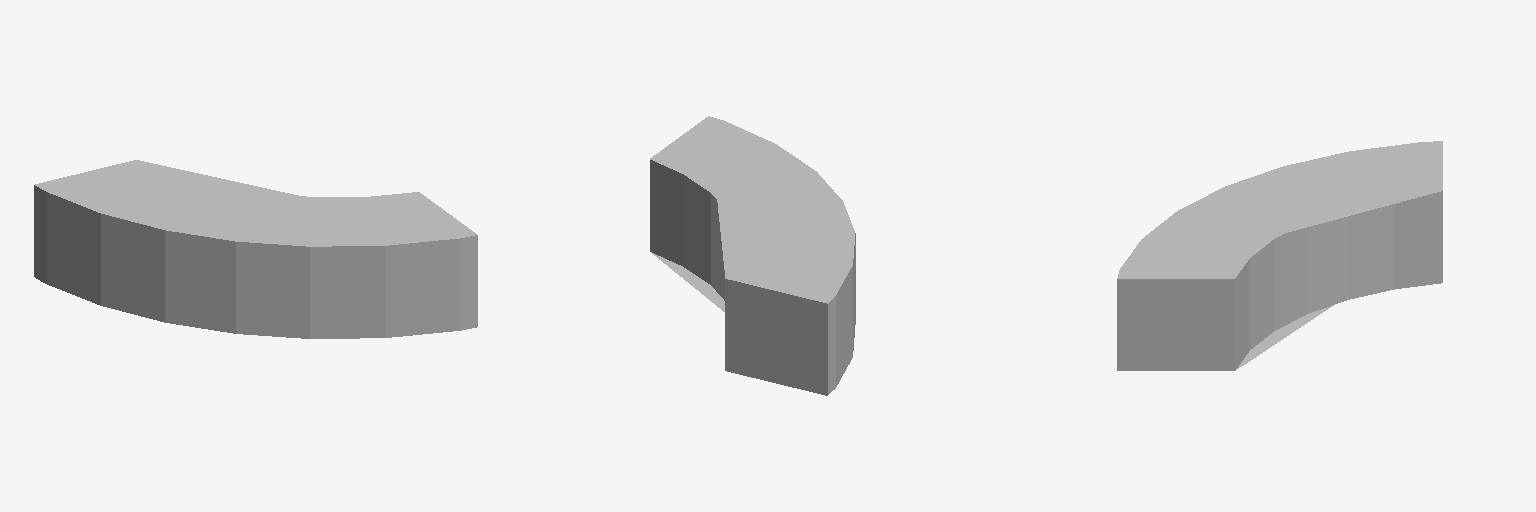
File: dsharp.obj
3 renders of one model, left to right at view 1: azimuth 30°, elevation 25°; view 2: azimuth 150°, elevation 25°; view 3: azimuth 270°, elevation 25°, orthographic.
Parts seen in each view (by area): view 1: Cylinder.006_Cylinder.008; view 2: Cylinder.006_Cylinder.008; view 3: Cylinder.006_Cylinder.008.
Boxes of the visible parts, <box> form: Cylinder.006_Cylinder.008: <box>34,160,477,338</box>; Cylinder.006_Cylinder.008: <box>650,116,855,395</box>; Cylinder.006_Cylinder.008: <box>1117,141,1442,370</box>.
Size of the model in its own units: 1.08 by 0.3401 by 1.08.